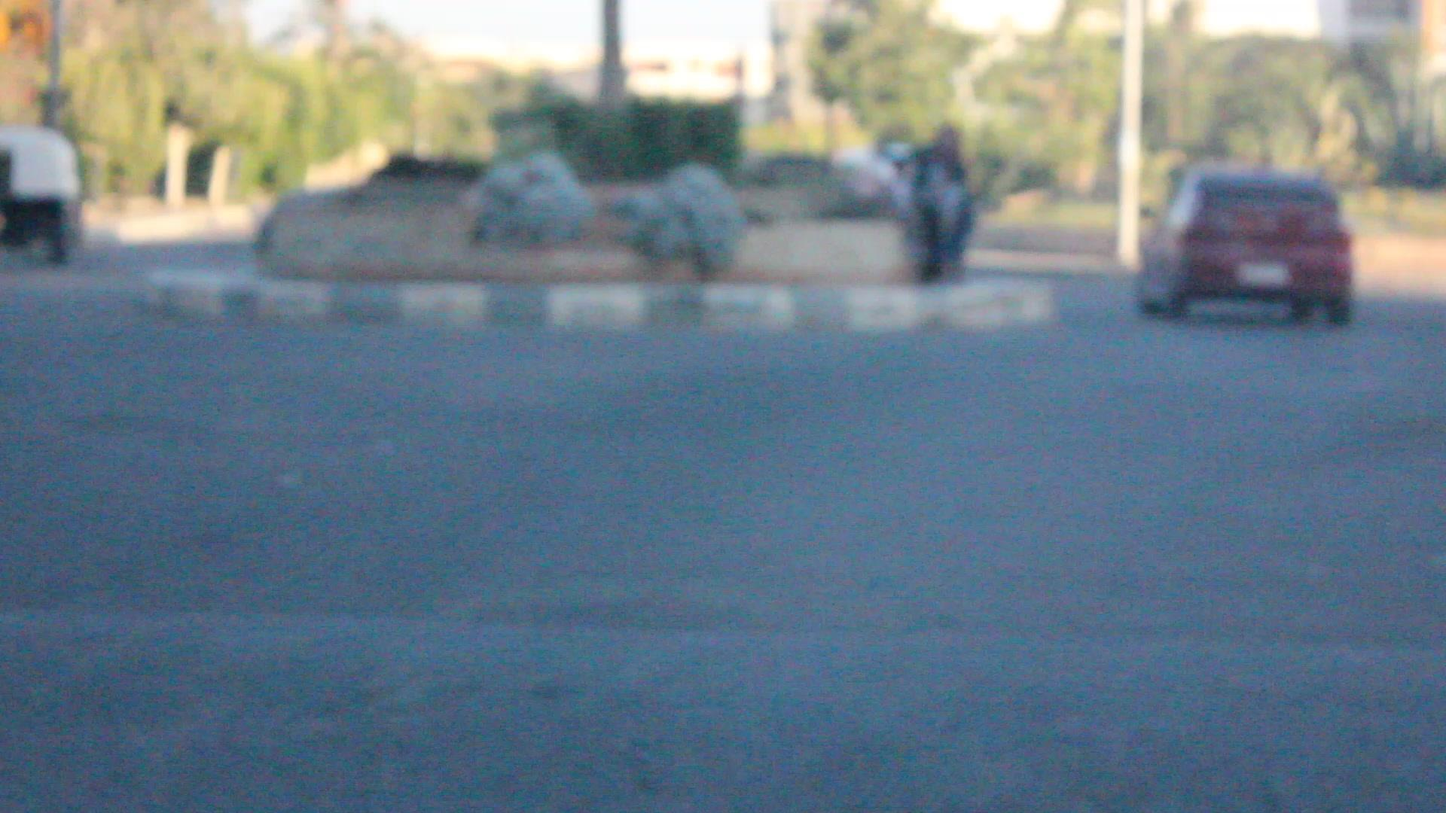Bump: (4, 597, 1446, 777)
